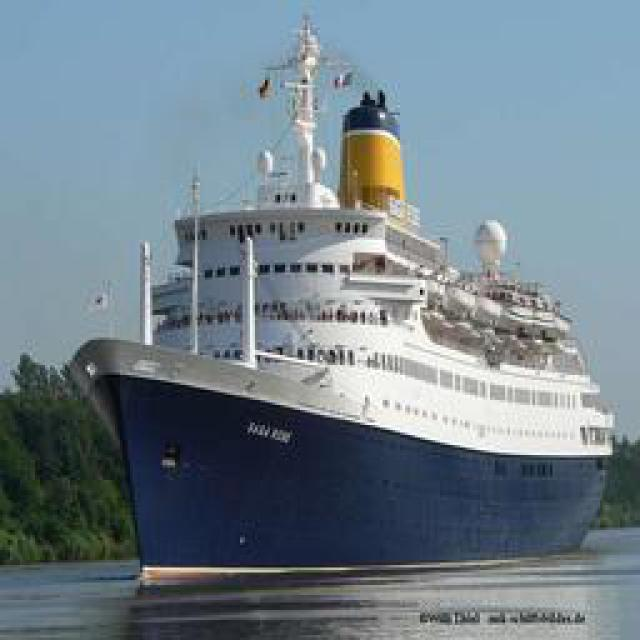Ship: (85, 32, 618, 602)
